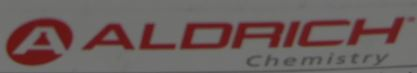SigmaAldrich: (4, 14, 417, 72)
